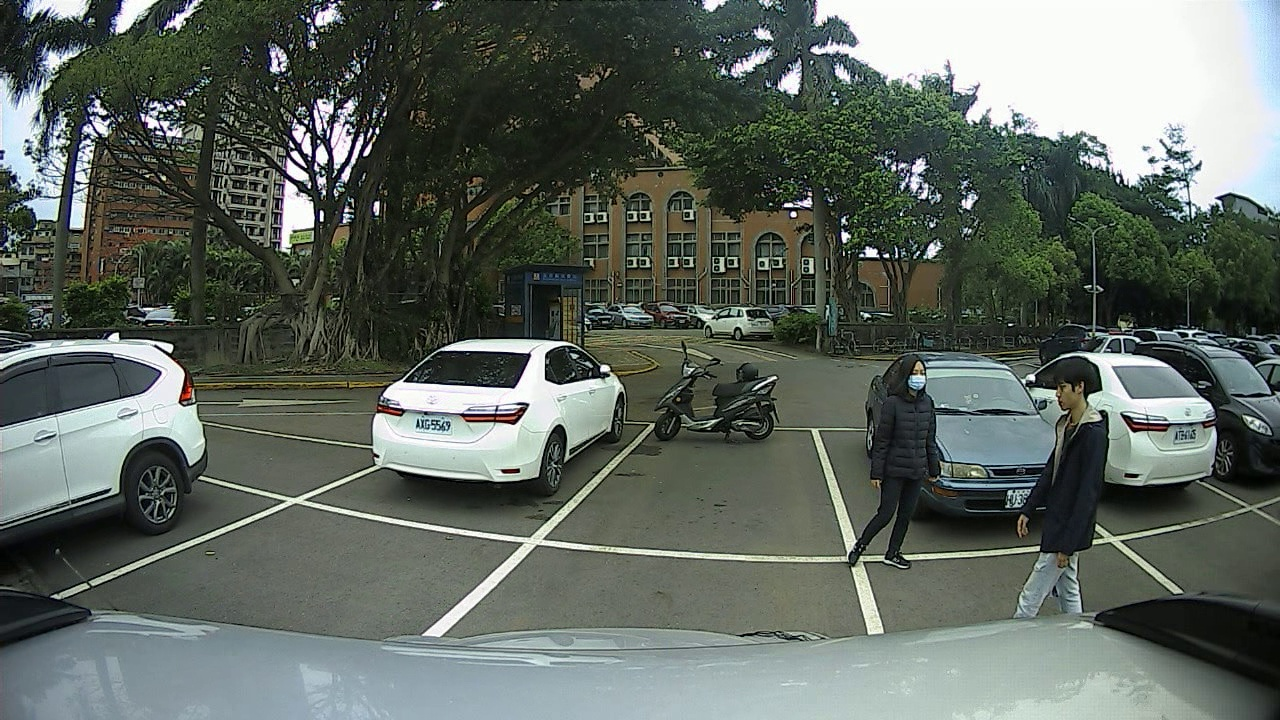car: (1, 319, 221, 566), (357, 325, 636, 495)
motorcycle: (644, 340, 803, 446)
person: (1004, 345, 1121, 632), (834, 345, 948, 590)
